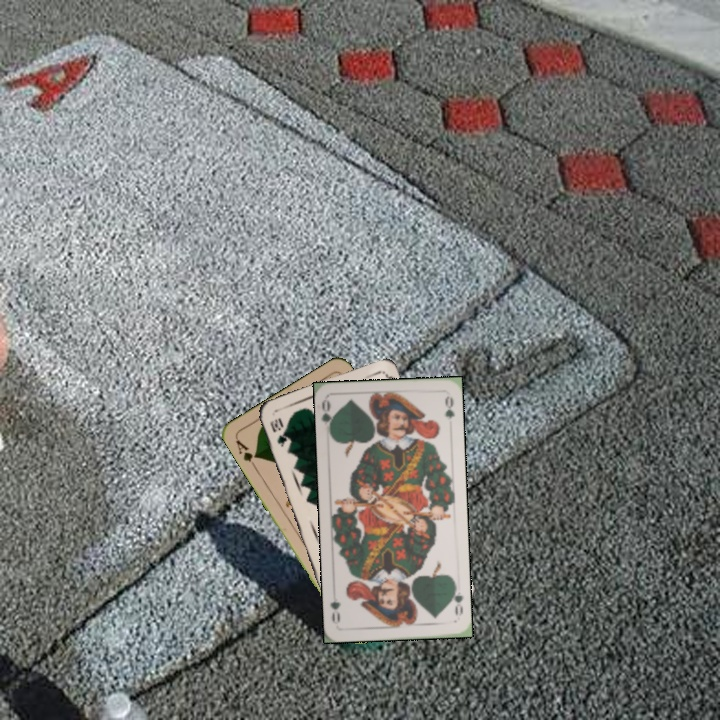G10: (266, 414, 290, 449)
GA: (231, 434, 260, 471)
GO: (318, 397, 338, 437), (447, 581, 466, 618)
